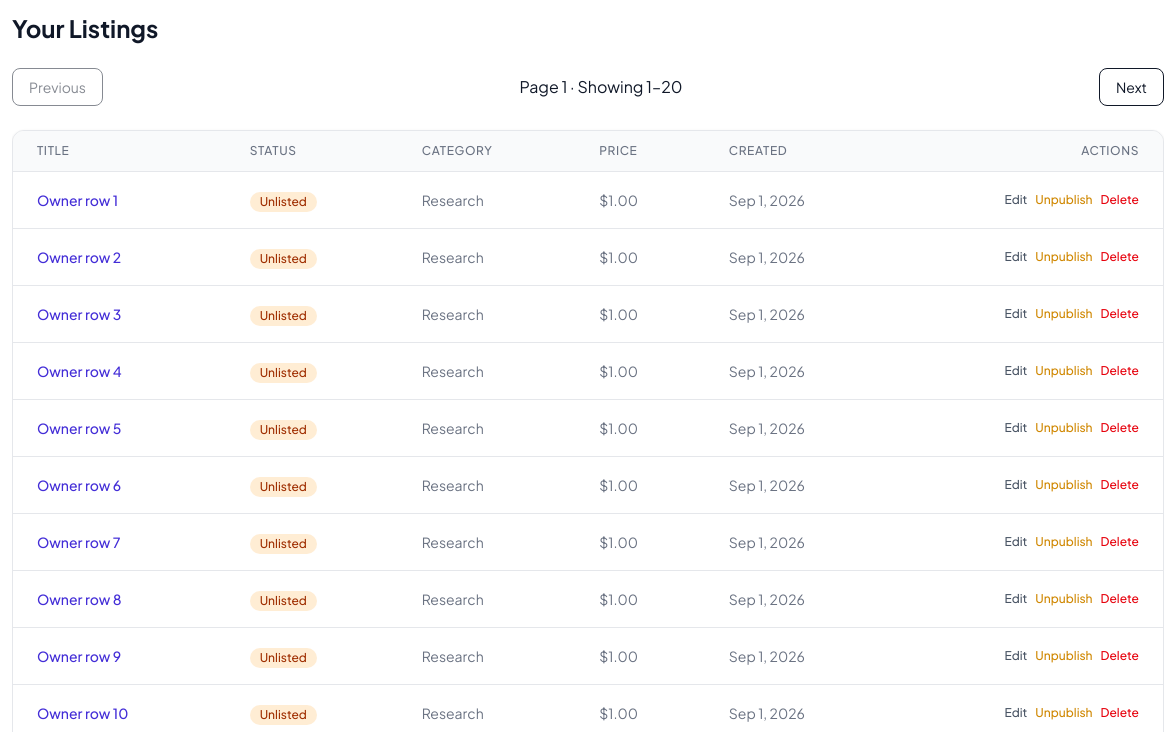
Scenario: reaches older rows in backend order, hides each sentinel, and returns from the last page
This screenshot has width=1176, height=732.
Expected: the link "Owner row 1" is shown, x1=37 y1=191 x2=118 y2=209
Expected: the button "Previous" is disabled, x1=12 y1=68 x2=103 y2=106
What coordinates should you click on to do the following:
click the button "Next"
I would click on:
 (1132, 87)
Its box is x1=1099 y1=68 x2=1164 y2=106.
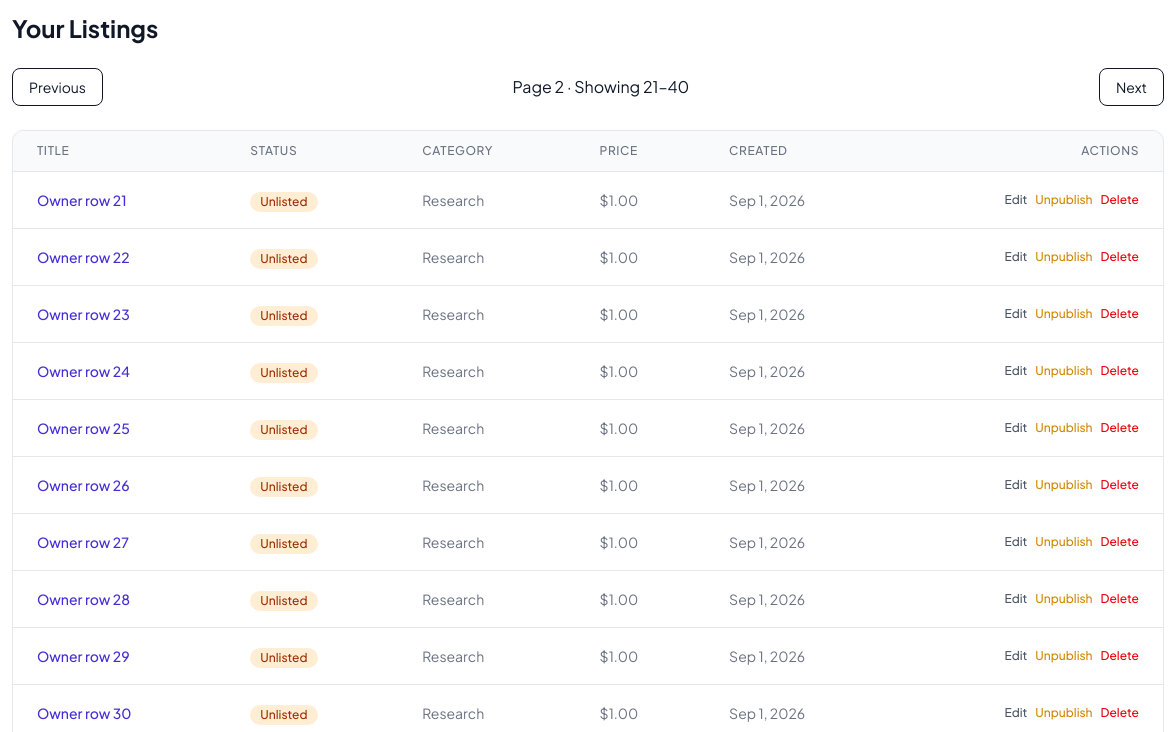
Expected: the text "Owner row 41" is not shown
Expected: the link "Owner row 21" is shown, x1=37 y1=191 x2=126 y2=209
What coordinates should you click on to do the following:
click the button "Next"
I would click on:
 (1132, 87)
Its box is x1=1099 y1=68 x2=1164 y2=106.
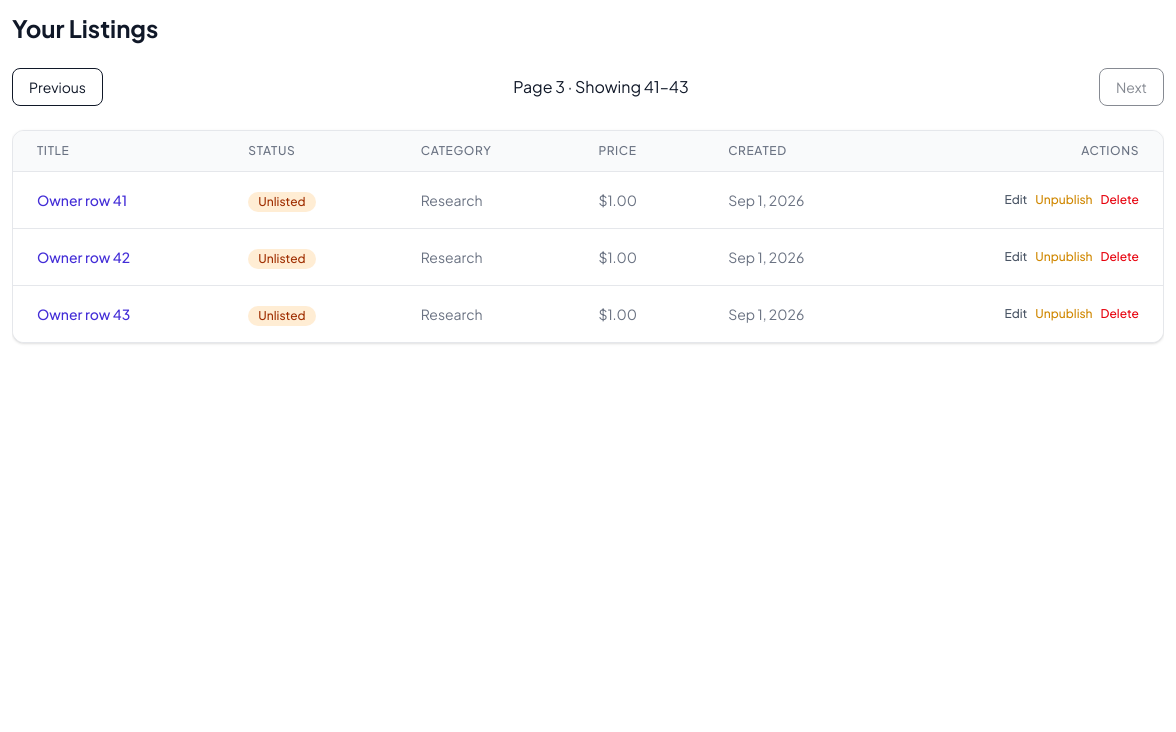
Expected: the link "Owner row 43" is shown, x1=37 y1=305 x2=130 y2=323
Expected: the text "Page 3 · Showing 41–43" is shown, x1=513 y1=75 x2=689 y2=99
Expected: the button "Next" is disabled, x1=1099 y1=68 x2=1164 y2=106
What coordinates should you click on to do the following:
click the button "Previous"
I would click on:
 (58, 87)
Its box is x1=12 y1=68 x2=103 y2=106.
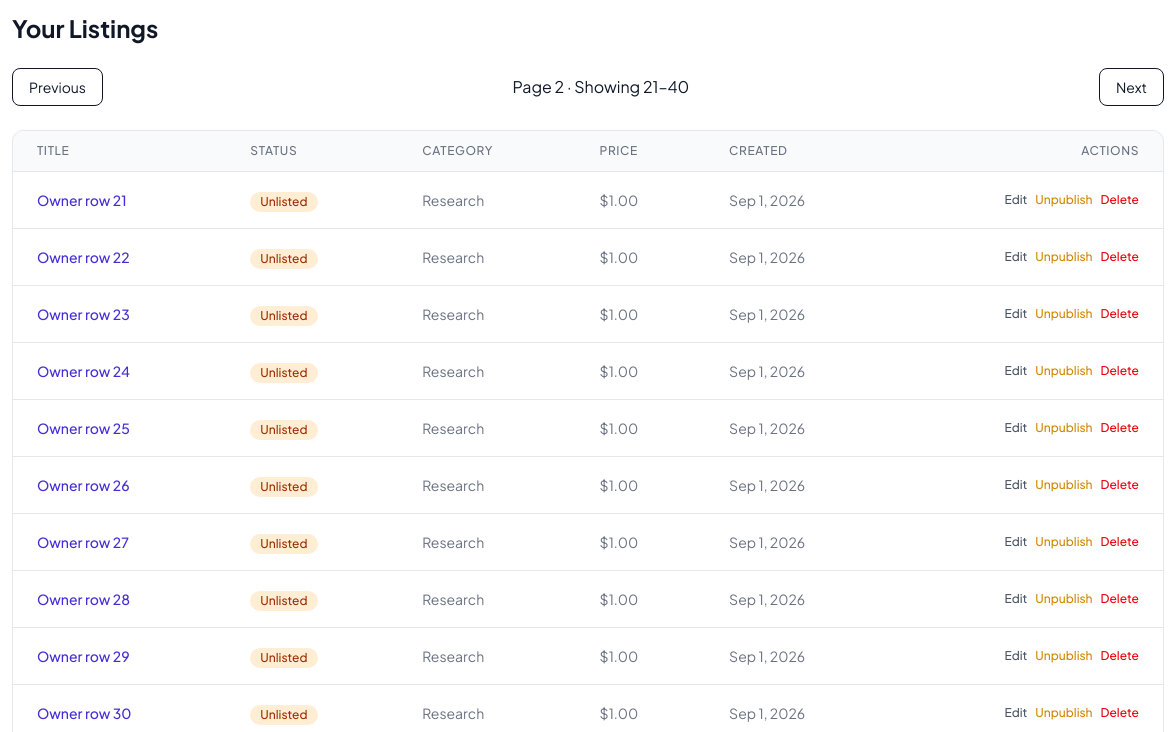
Expected: the link "Owner row 21" is shown, x1=37 y1=191 x2=126 y2=209
